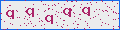q: (25, 8, 34, 18), (63, 8, 71, 18), (82, 7, 90, 16), (45, 15, 53, 24), (6, 10, 14, 19)
